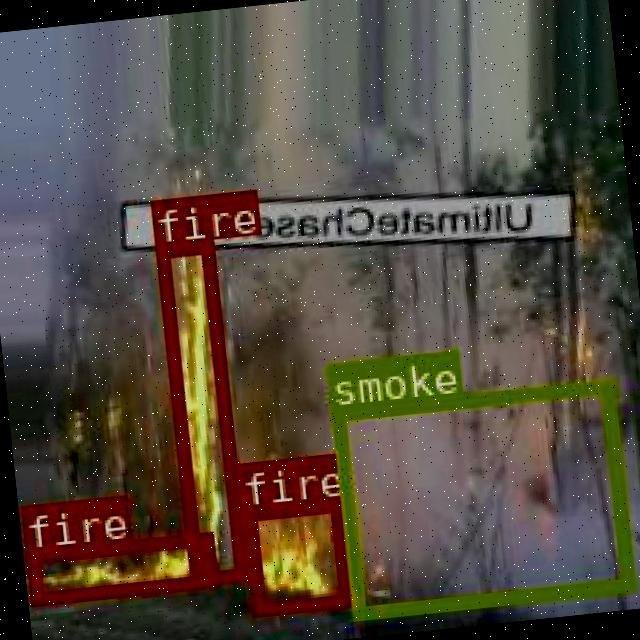fire: (154, 239, 246, 584), (23, 531, 215, 602), (240, 495, 350, 614)
smoke: (328, 377, 632, 617)
